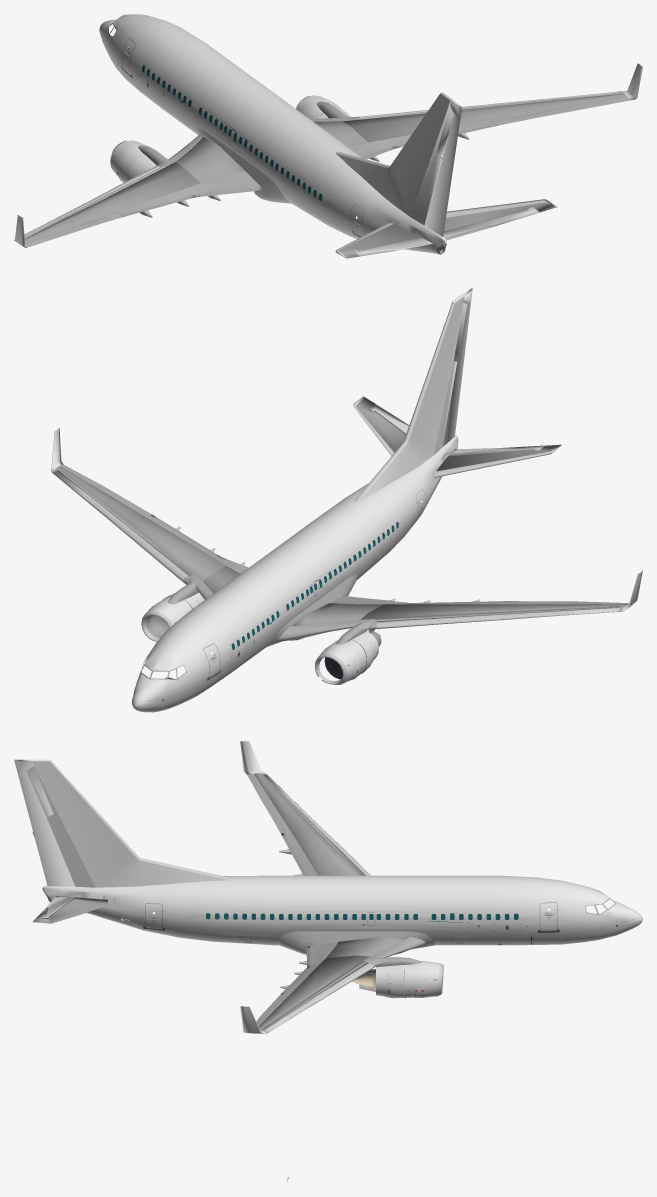
3 views of the same model, one above another, from view 1: azimuth 30°, elevation 25°; view 2: azimuth 150°, elevation 25°; view 3: azimuth 270°, elevation 25° (orthographic). The views are drawn at different scales.
Visible parts, largest first — view 1: rootNode; view 2: rootNode; view 3: rootNode.
Part boxes in pixels (bbox=[...]): rootNode: bbox=[14, 14, 642, 258]; rootNode: bbox=[51, 287, 642, 712]; rootNode: bbox=[14, 741, 642, 1182].
Bounding box in the file's own units: 36 × 17.27 × 34.93.
141 materials, 32 textured.
